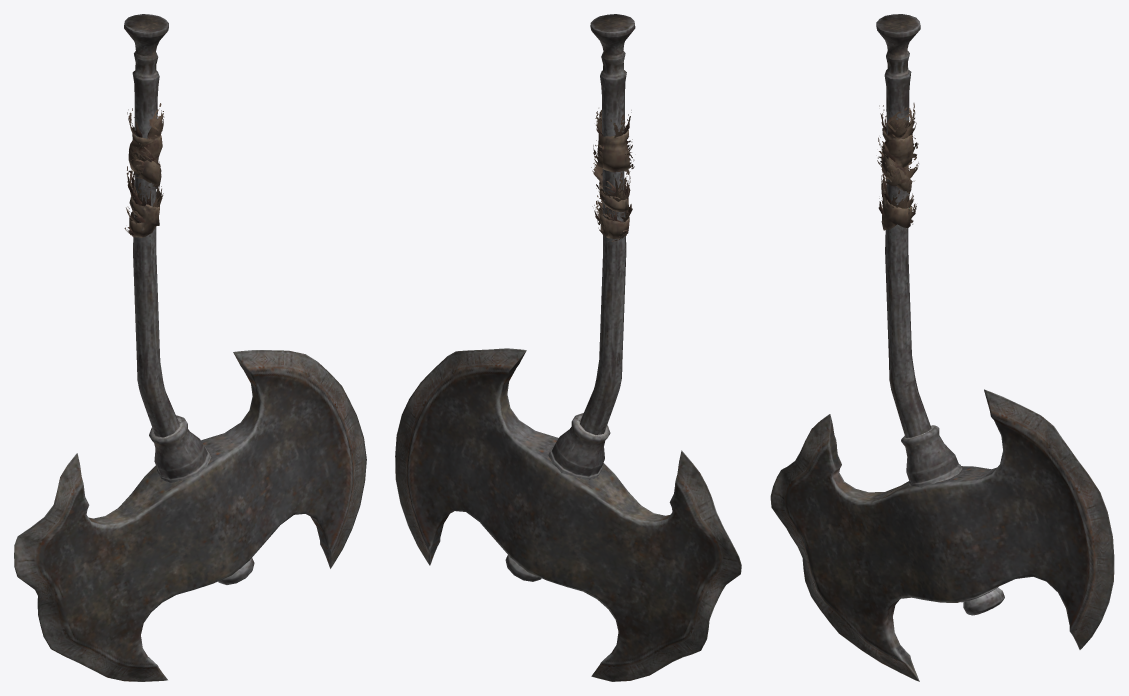
Rendered from weapon-wp_a_0711.glb.
The picture shows the model from 3 angles, left to right: view 1: azimuth 30°, elevation 25°; view 2: azimuth 150°, elevation 25°; view 3: azimuth 330°, elevation 25°; orthographic projection.
Visible parts, largest first — view 1: wp_a_0711_mesh; view 2: wp_a_0711_mesh; view 3: wp_a_0711_mesh.
Boxes of the visible parts, box(x1,y1,x2,y2) form: wp_a_0711_mesh: box(14, 14, 366, 681); wp_a_0711_mesh: box(395, 14, 741, 681); wp_a_0711_mesh: box(770, 14, 1114, 681).
Size of the model in its own units: 0.6542 by 1.18 by 0.1013.
1 material, 1 textured.
